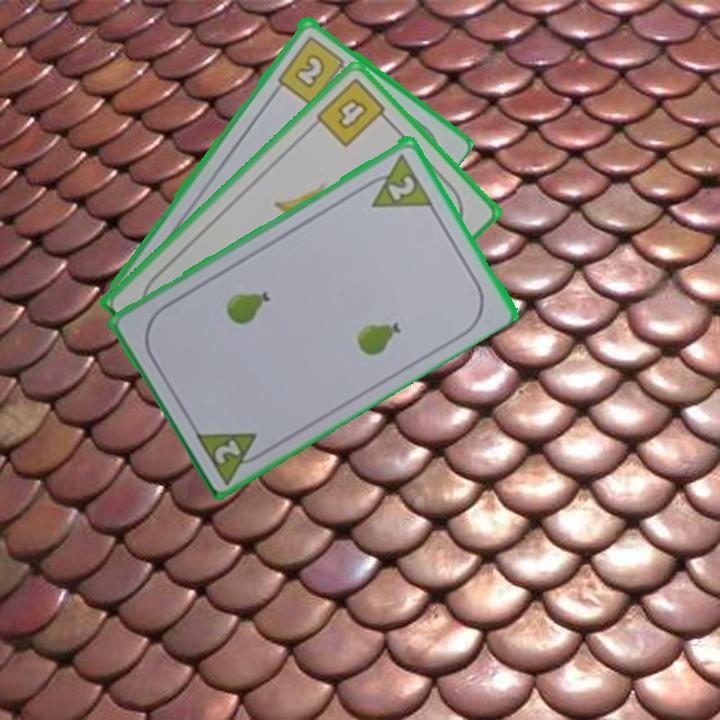2b: (274, 31, 353, 108)
2p: (191, 426, 272, 485), (384, 171, 418, 203)
4b: (312, 74, 394, 150)
